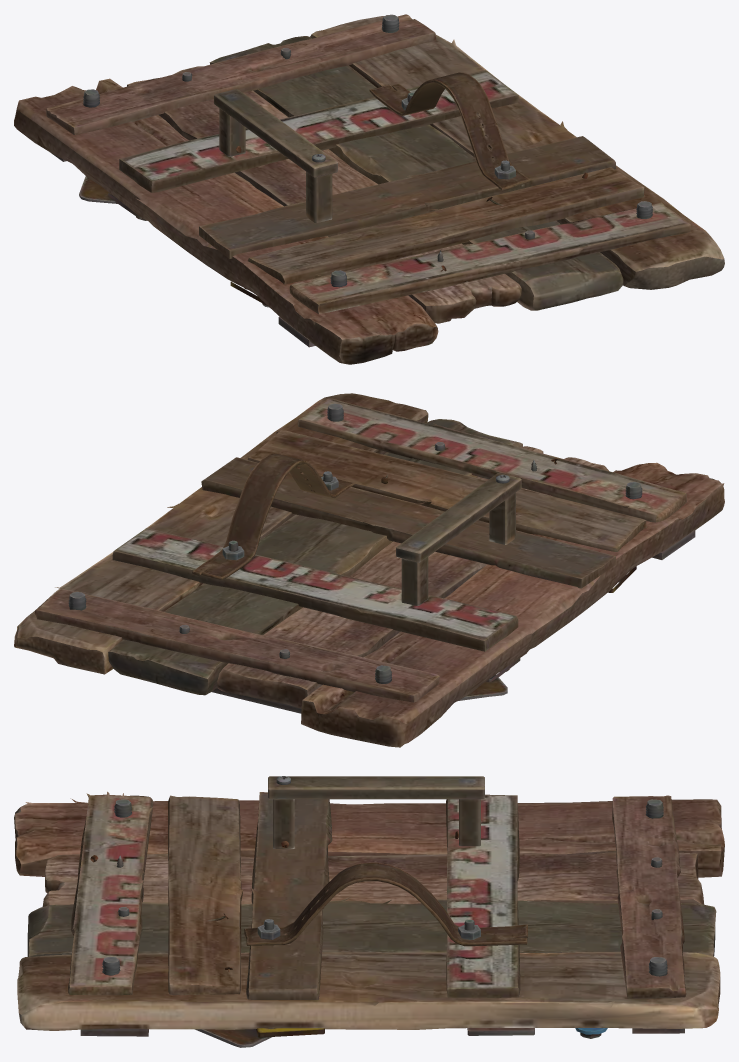
Rendered from reinforcedwoodshield.worldmodel.glb.
The picture shows the model from 3 angles, top to bottom: view 1: azimuth 30°, elevation 25°; view 2: azimuth 150°, elevation 25°; view 3: azimuth 270°, elevation 25°; orthographic projection. The views are drawn at different scales.
Parts seen in each view (by area): view 1: w_ReinforcedWoodShield_LOD0; view 2: w_ReinforcedWoodShield_LOD0; view 3: w_ReinforcedWoodShield_LOD0.
Boxes of the visible parts, box(x1,y1,x2,y2) form: w_ReinforcedWoodShield_LOD0: box(14, 14, 724, 364); w_ReinforcedWoodShield_LOD0: box(14, 393, 724, 747); w_ReinforcedWoodShield_LOD0: box(14, 776, 724, 1047).
Size of the model in its own units: 0.5251 by 0.1322 by 0.7012.
2 materials, 2 textured.
